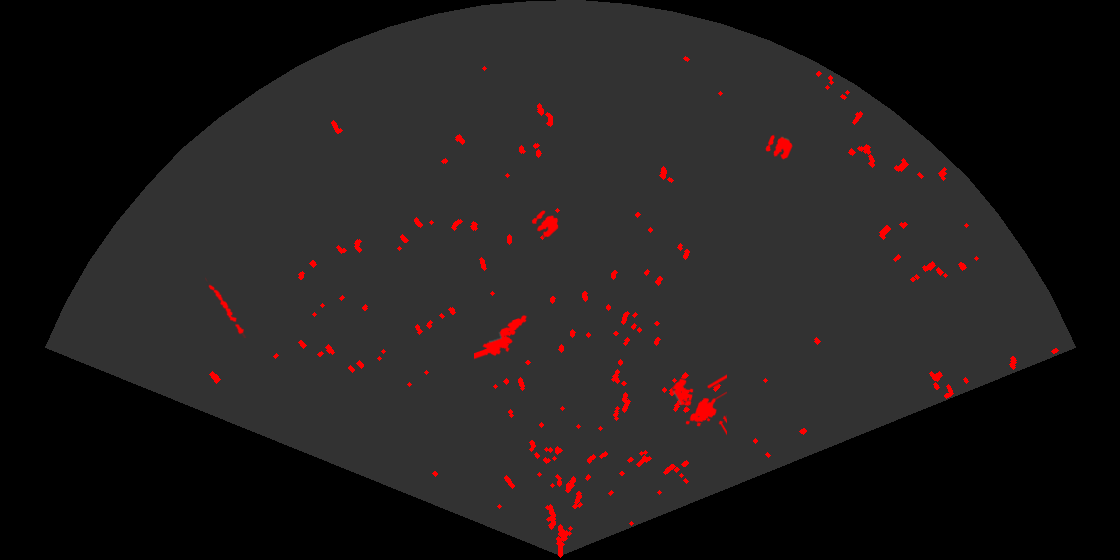ball: (530, 209, 560, 239), (764, 133, 794, 161)
cage: (671, 373, 727, 437)
chain: (205, 276, 248, 338)
frogman: (474, 314, 529, 361)
